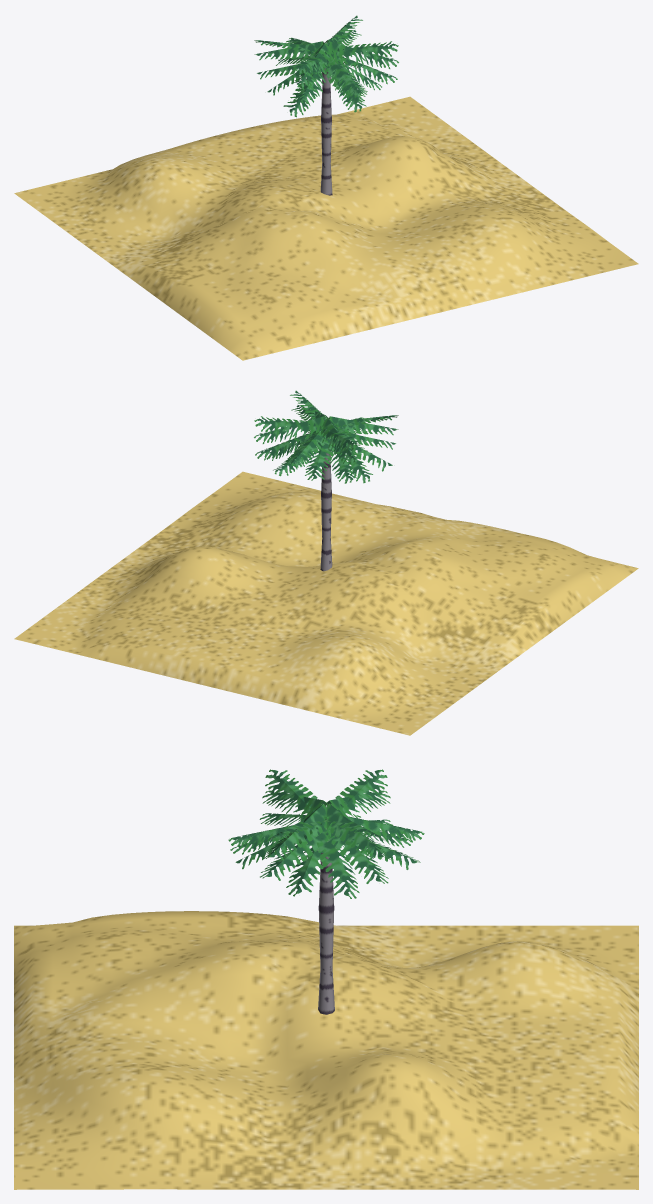
File: Beach_assets1.fbx
3 views of the same model, one above another, from view 1: azimuth 30°, elevation 25°; view 2: azimuth 150°, elevation 25°; view 3: azimuth 270°, elevation 25° (orthographic). The views are drawn at different scales.
Parts seen in each view (by area): view 1: Sand1, Palm_Tree_1; view 2: Sand1, Palm_Tree_1; view 3: Sand1, Palm_Tree_1.
Part boxes in pixels (<box>): Sand1: <box>14,96,638,360</box>; Palm_Tree_1: <box>254,15,398,195</box>; Sand1: <box>14,471,638,735</box>; Palm_Tree_1: <box>254,390,398,571</box>; Sand1: <box>14,911,638,1189</box>; Palm_Tree_1: <box>228,769,424,1014</box>.
Size of the model in its own units: 4000 by 1826 by 4000.
3 materials, 3 textured.
